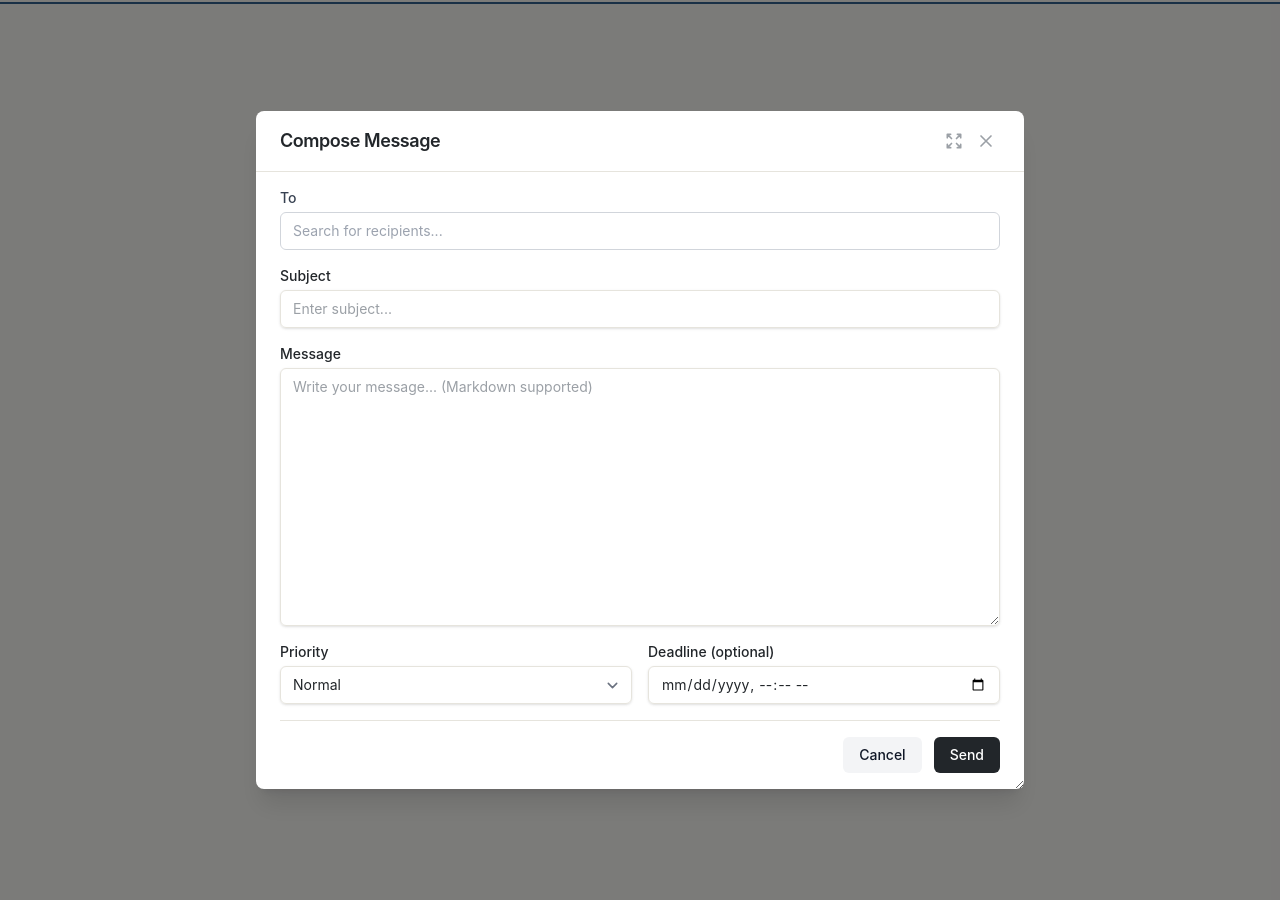
it: ComposeModal › validates required fields on submit
Click the button "Send".
click(967, 755)  # box [934,737,1000,773]
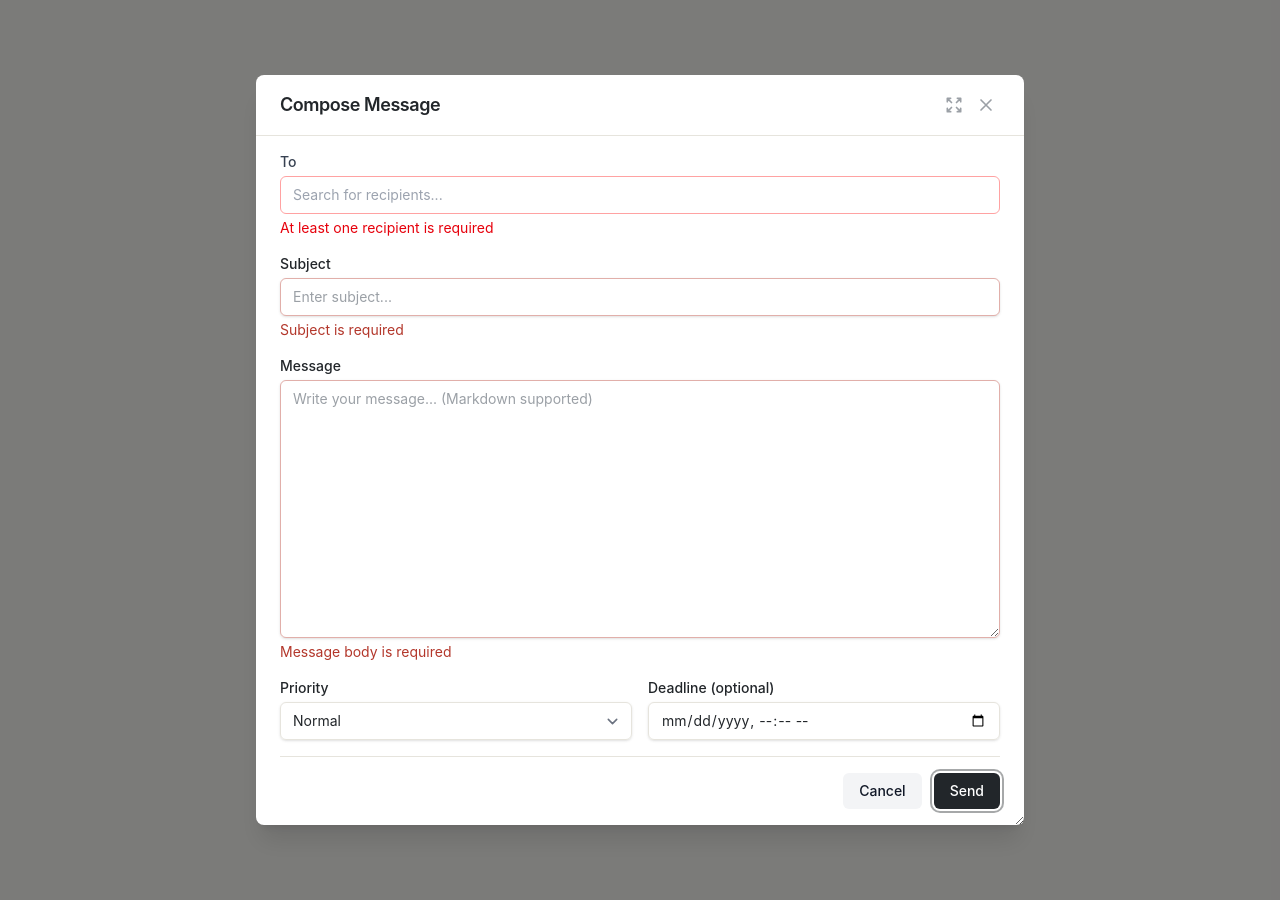
Now the text "At least one recipient is required" is shown, box [280,219,494,236]
Now the text "Subject is required" is shown, box [280,321,404,338]
Now the text "Message body is required" is shown, box [280,643,452,660]
